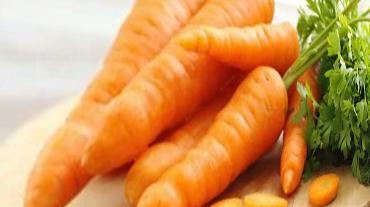carrot: (88, 0, 302, 194), (157, 17, 316, 203)
